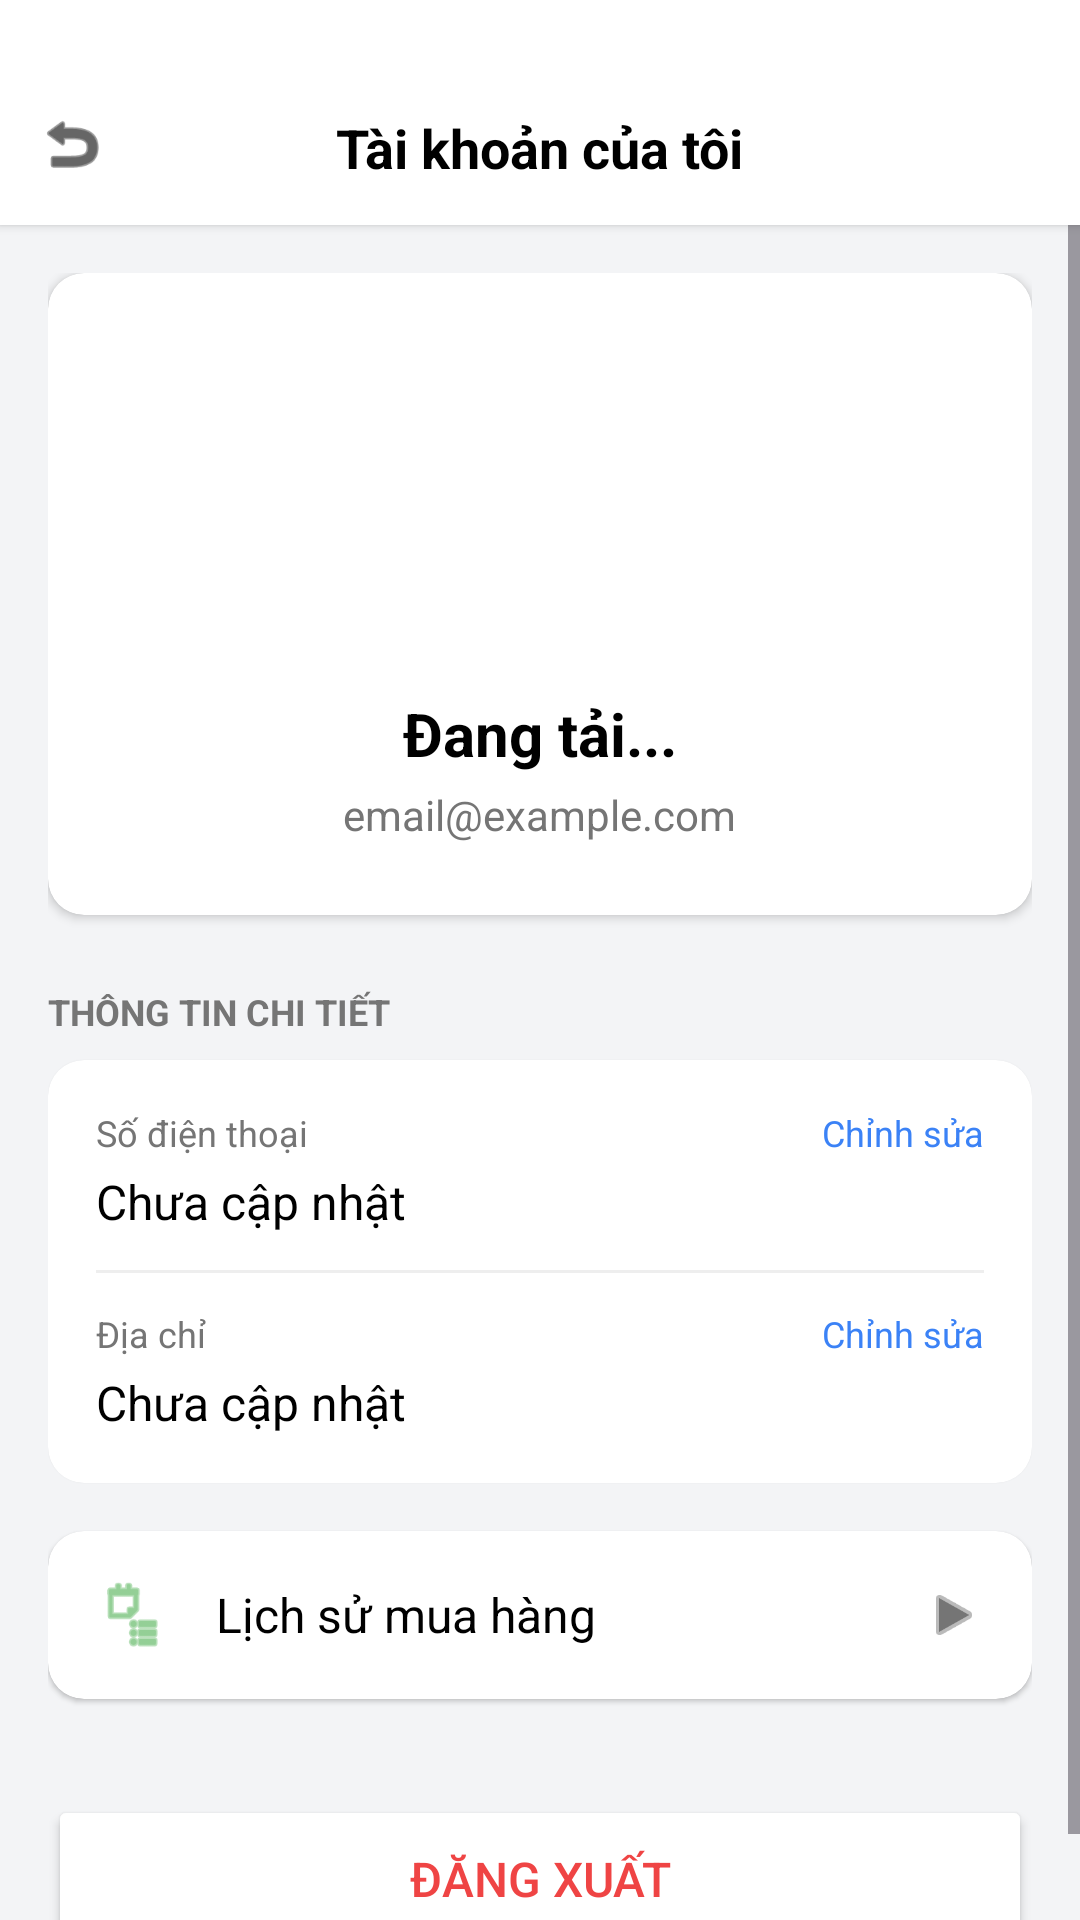

Icon click points for this 1080*1920 phone screenshot, format [x,y]:
agenda: [132,1615]
play: [954,1615]
revert: [73,144]
